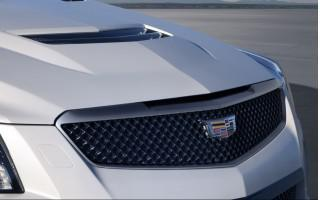cadillac: (192, 112, 246, 142)
